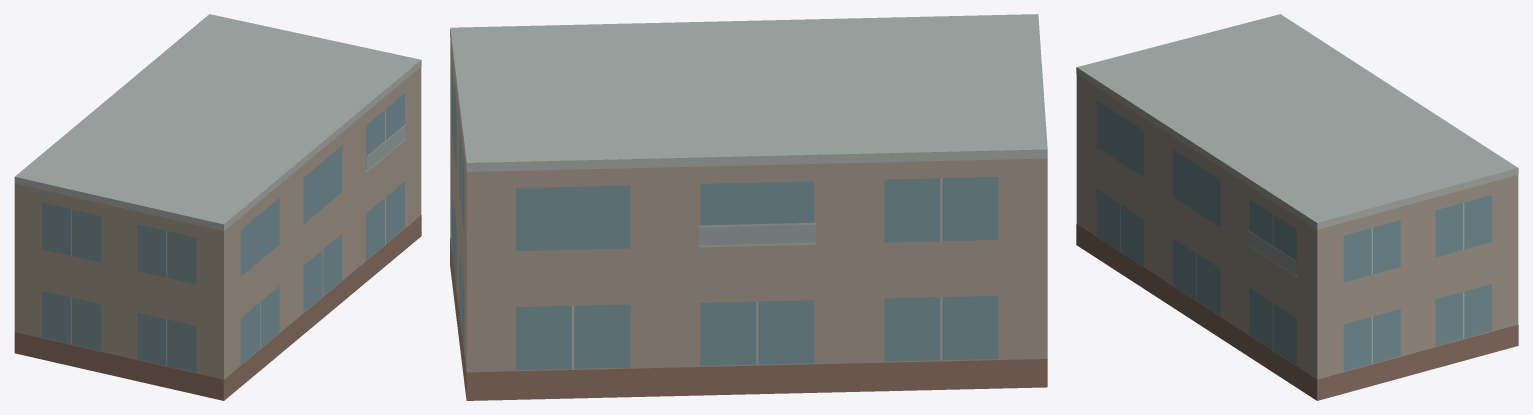
File: survey-upis-32619357.glb
The picture shows the model from 3 angles, left to right: view 1: azimuth 30°, elevation 25°; view 2: azimuth 150°, elevation 25°; view 3: azimuth 270°, elevation 25°; orthographic projection. The views are drawn at different scales.
Visible parts, largest first — view 1: survey-upis-32619357.tmp; view 2: survey-upis-32619357.tmp; view 3: survey-upis-32619357.tmp.
Boxes of the visible parts, x1,y1,x2,y2 form: survey-upis-32619357.tmp: (14,14,421,400); survey-upis-32619357.tmp: (450,14,1047,400); survey-upis-32619357.tmp: (1076,14,1518,400).
Size of the model in its own units: 16.14 by 6.4 by 14.42.
